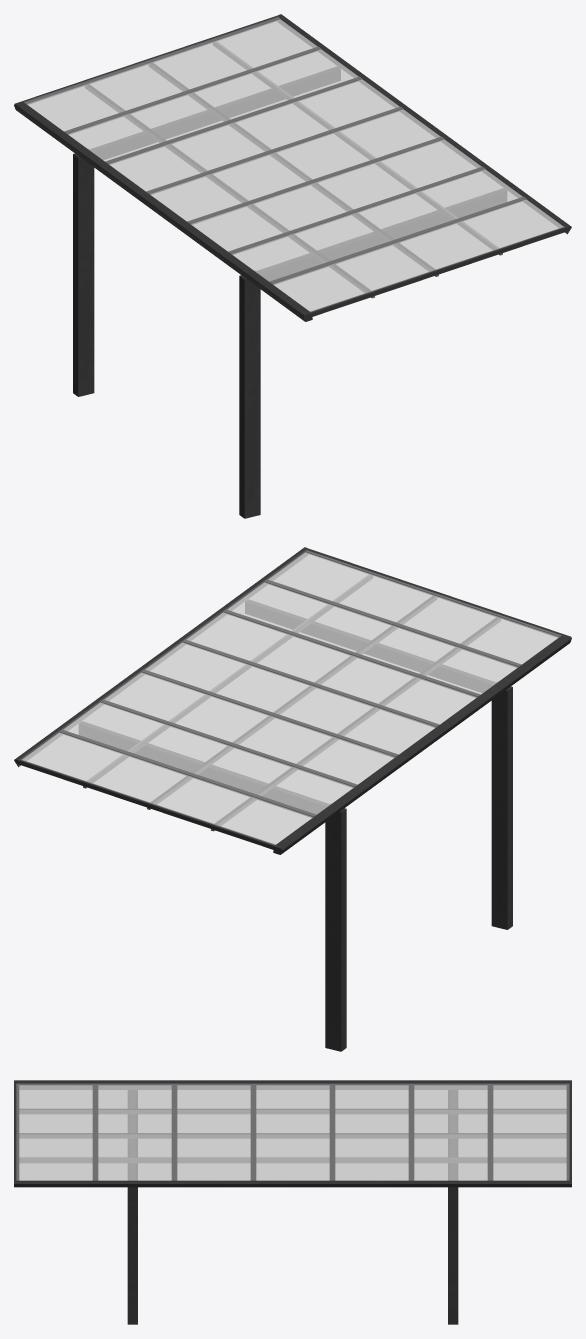
Rendered from 2750-22_matblack.fbx.
3 views of the same model, one above another, from view 1: azimuth 30°, elevation 25°; view 2: azimuth 150°, elevation 25°; view 3: azimuth 270°, elevation 25° (orthographic). The views are drawn at different scales.
Visible parts, largest first — view 1: 2750-22matblack; view 2: 2750-22matblack; view 3: 2750-22matblack.
Part boxes in pixels (box(x1,y1,x2,y2)): 2750-22matblack: box(14, 14, 571, 518); 2750-22matblack: box(14, 547, 571, 1051); 2750-22matblack: box(14, 1080, 571, 1324).
Bounding box in the file's own units: 270 × 260 × 505.
Materials: 4 (2 with a texture image).
